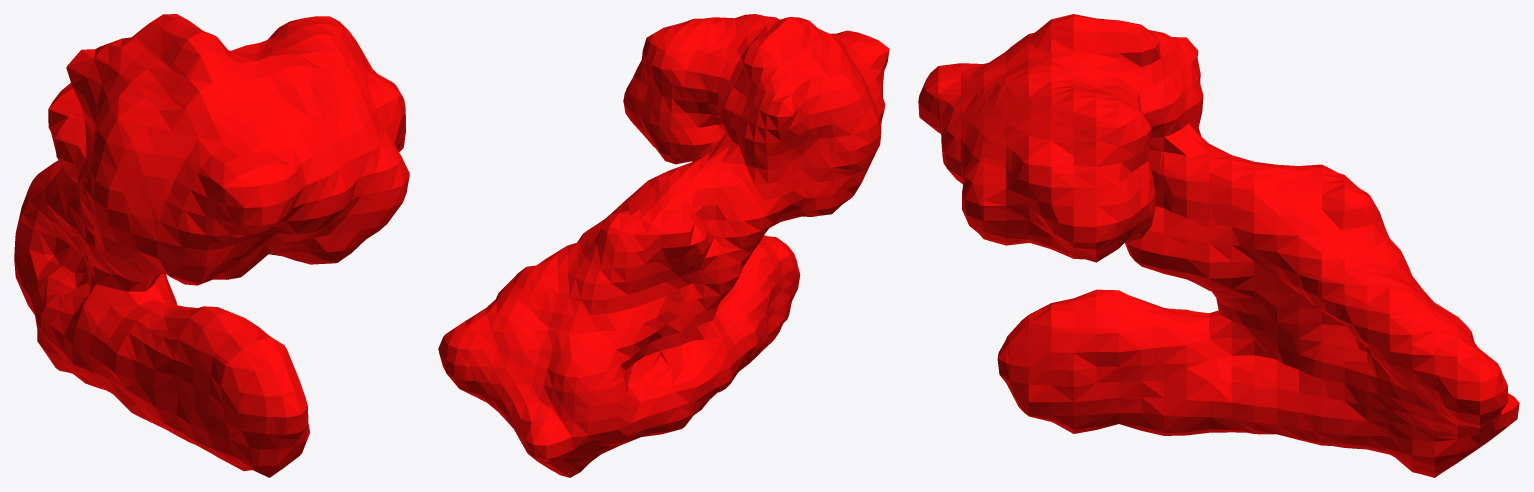
The model's file is yojI_coarse.dae.
The picture shows the model from 3 angles, left to right: view 1: azimuth 30°, elevation 25°; view 2: azimuth 150°, elevation 25°; view 3: azimuth 270°, elevation 25°; orthographic projection. The views are drawn at different scales.
Parts seen in each view (by area): view 1: yojI; view 2: yojI; view 3: yojI.
Boxes of the visible parts, x1=… form: yojI: x1=14, y1=14, x2=409, y2=477; yojI: x1=438, y1=14, x2=889, y2=477; yojI: x1=918, y1=14, x2=1519, y2=477.
Bounding box in the file's own units: 63.61 × 85.61 × 111.
